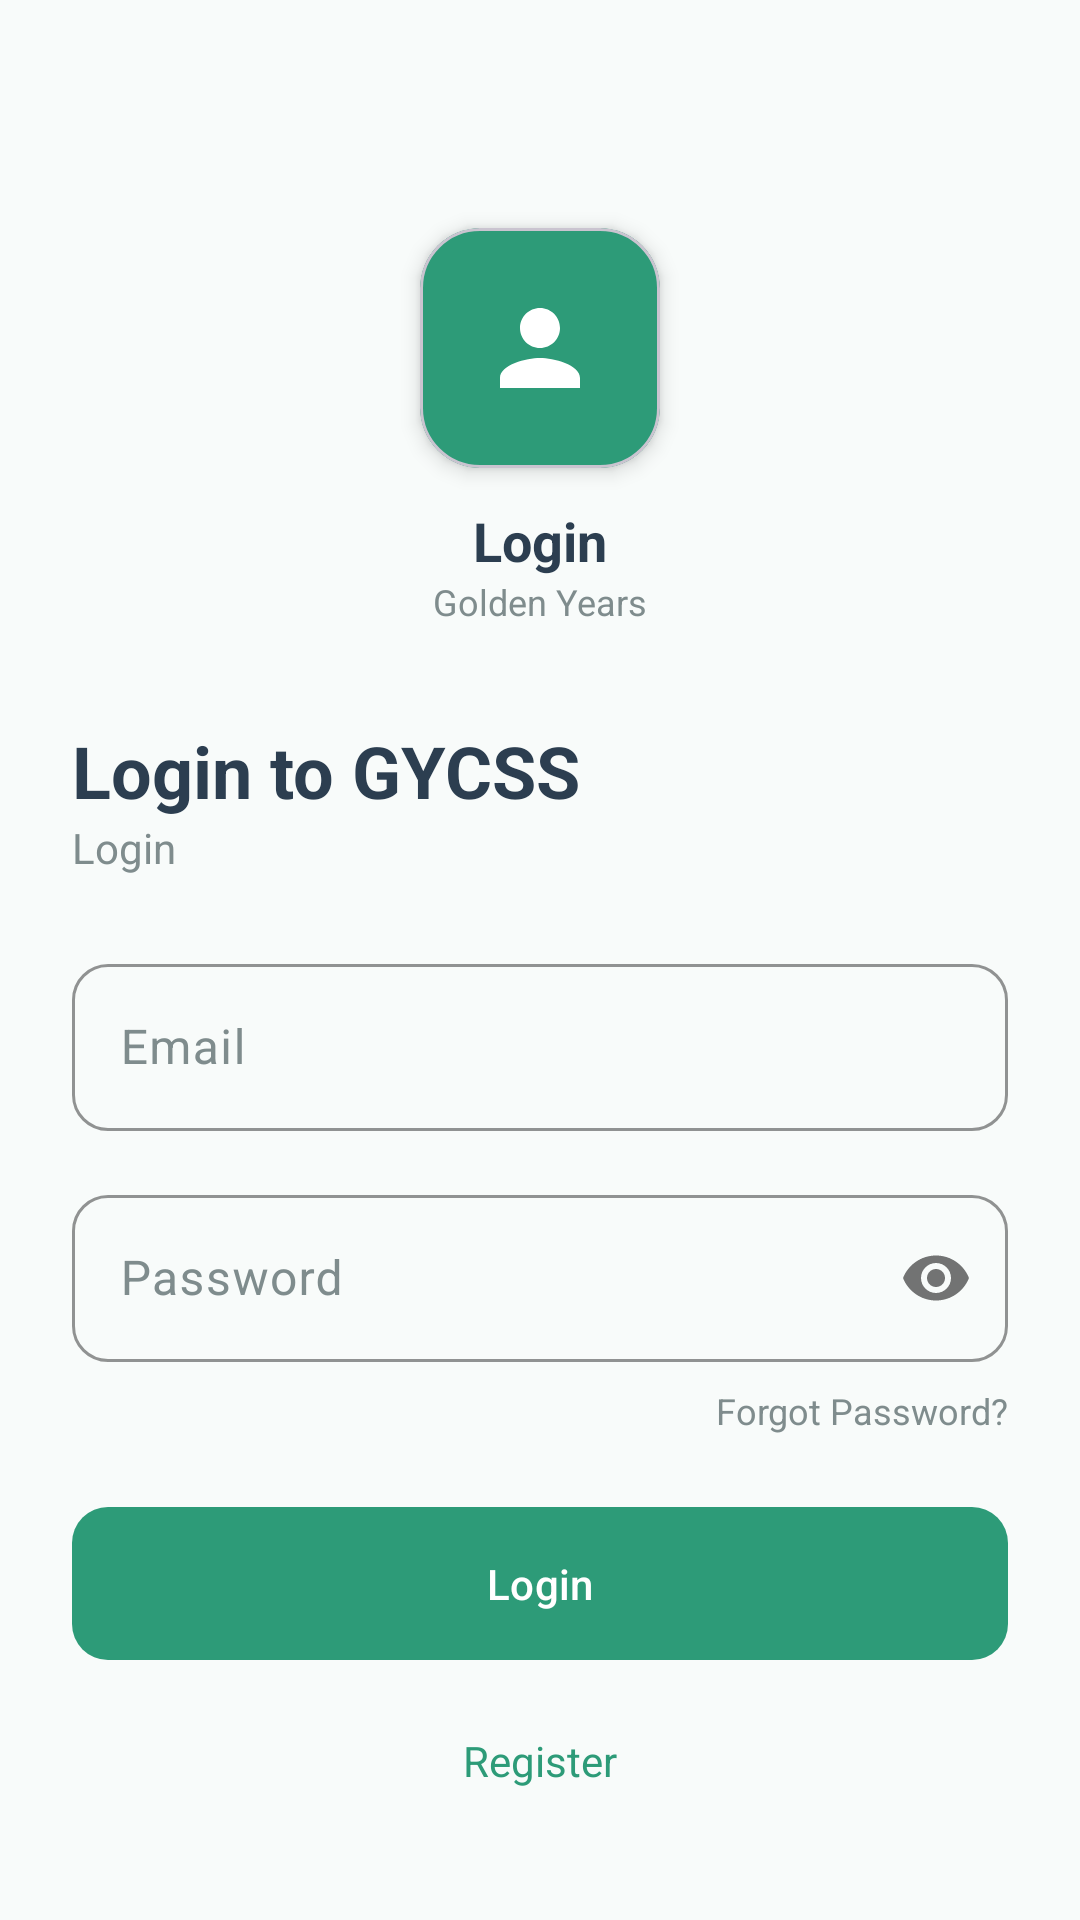

Screen size 1080 x 1920. Icon name, then its box in pixels as detection(x1, y1, x2, y2):
person: detection(500, 308, 580, 388)
